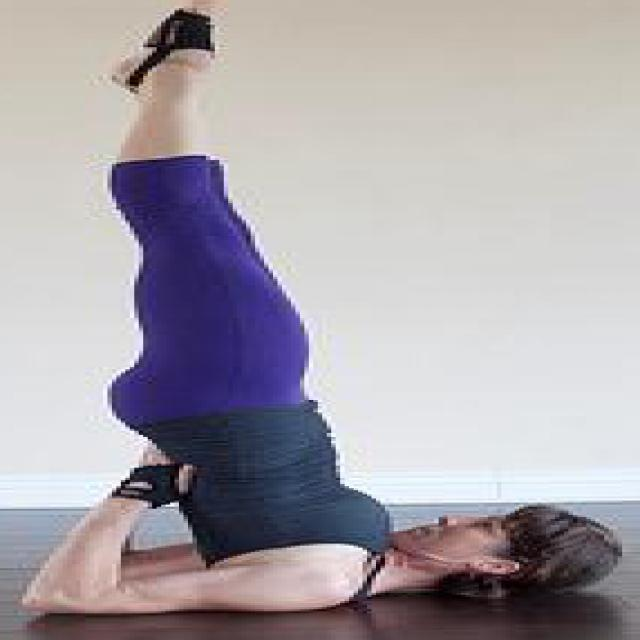yoga-pose shoulderstand: (26, 0, 622, 615)
